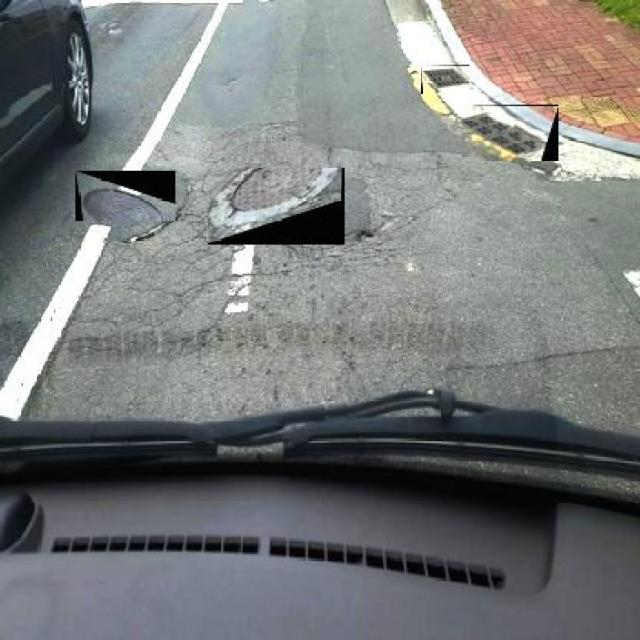Manhole: (208, 168, 344, 245), (462, 106, 559, 160), (76, 172, 176, 220), (420, 64, 469, 94)
